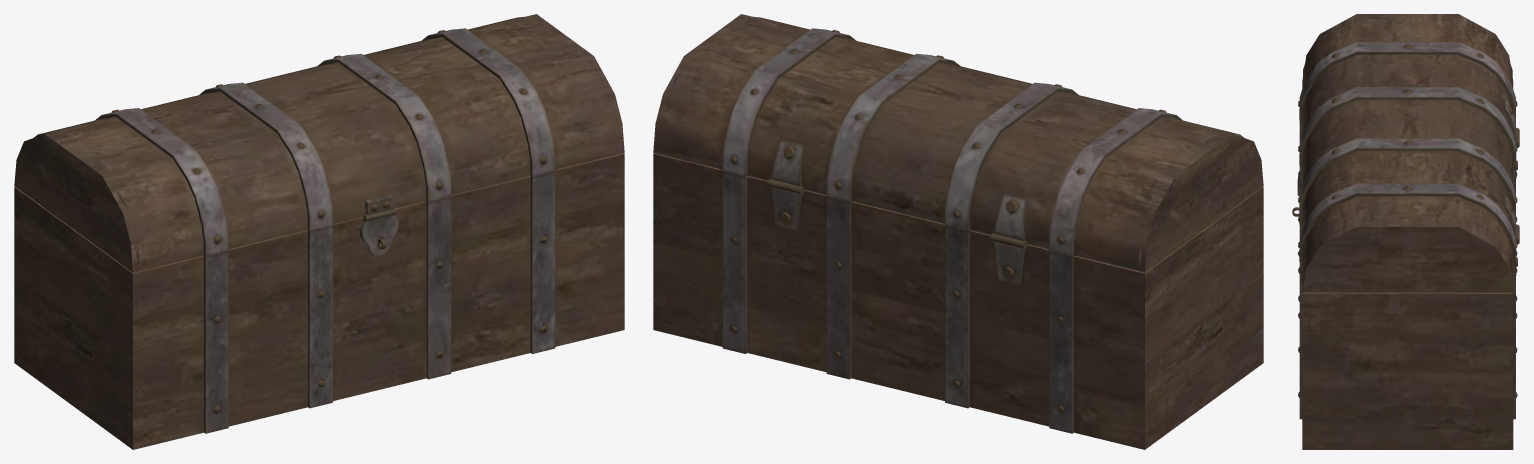
File: Chest.glb
3 renders of one model, left to right at view 1: azimuth 30°, elevation 25°; view 2: azimuth 150°, elevation 25°; view 3: azimuth 270°, elevation 25°, orthographic. The views are drawn at different scales.
Visible parts, largest first — view 1: ChestTop; view 2: ChestTop; view 3: ChestTop.
Boxes of the visible parts, x1,y1,x2,y2 form: ChestTop: (14, 14, 624, 449); ChestTop: (653, 14, 1263, 449); ChestTop: (1292, 14, 1519, 449).
Bounding box in the file's own units: 1.14 × 0.5661 × 0.5135.
Materials: 1 (1 with a texture image).
